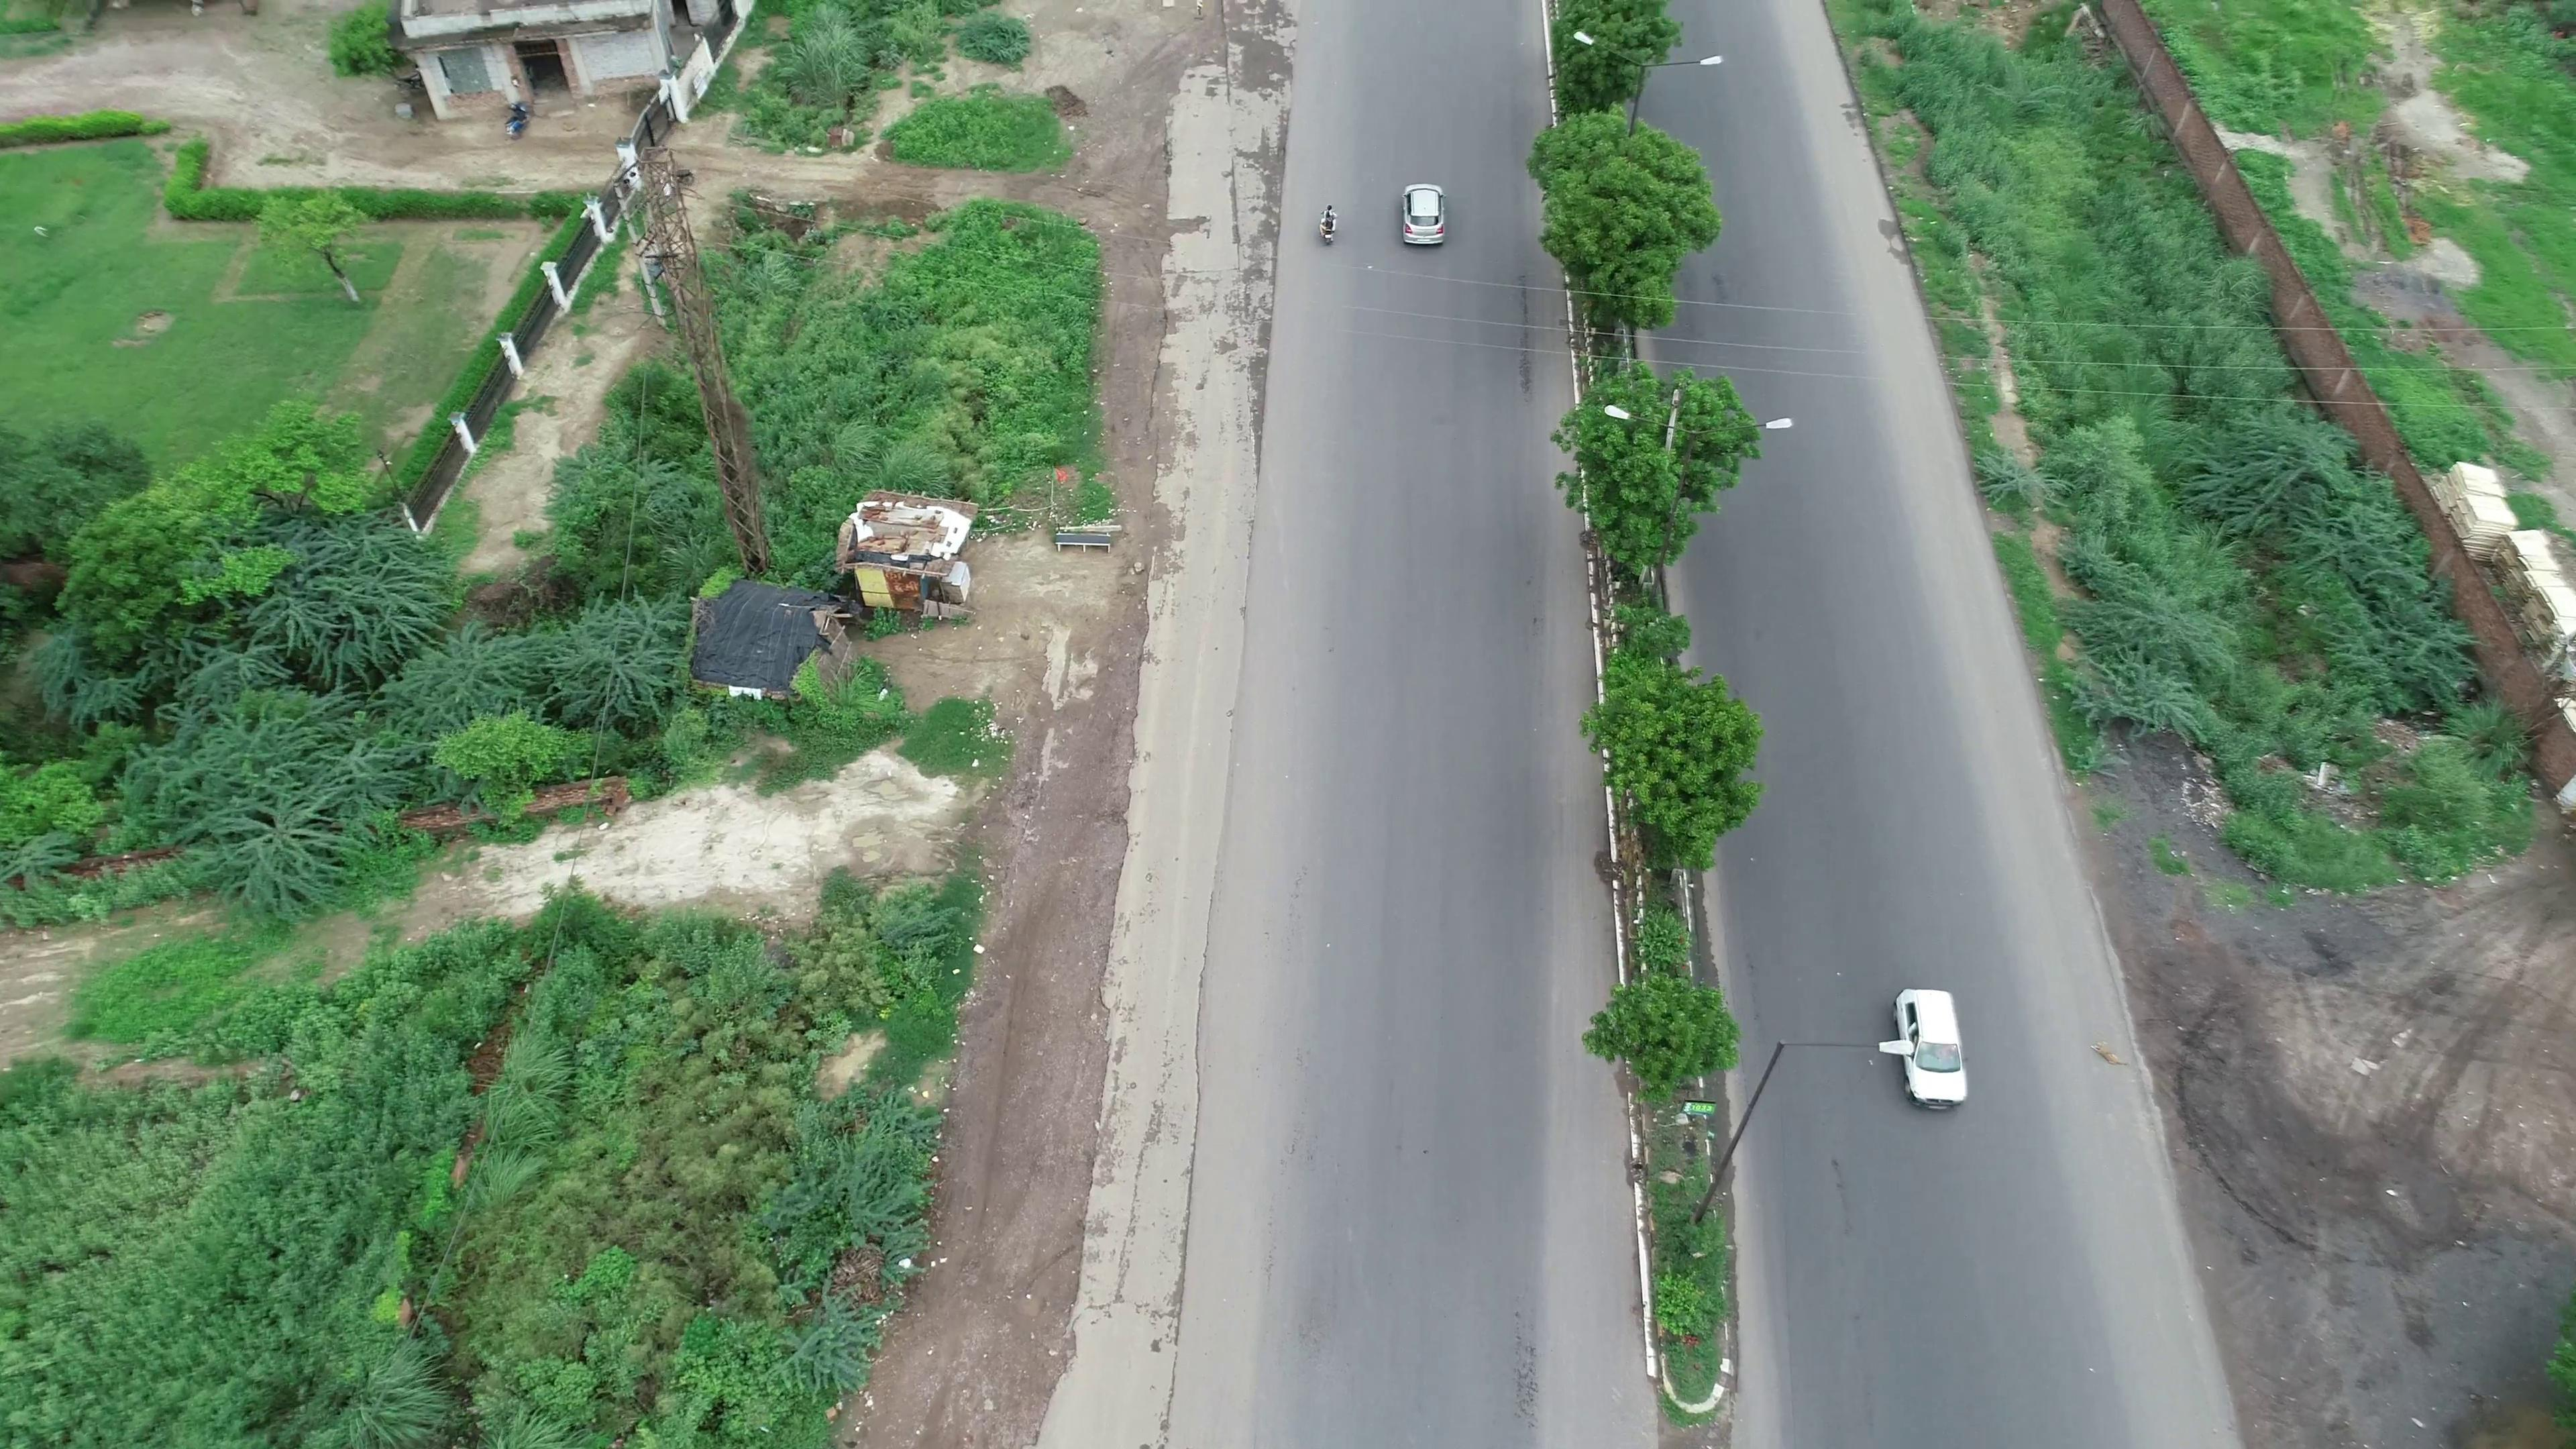Ravelling: (1511, 249, 1541, 395)
